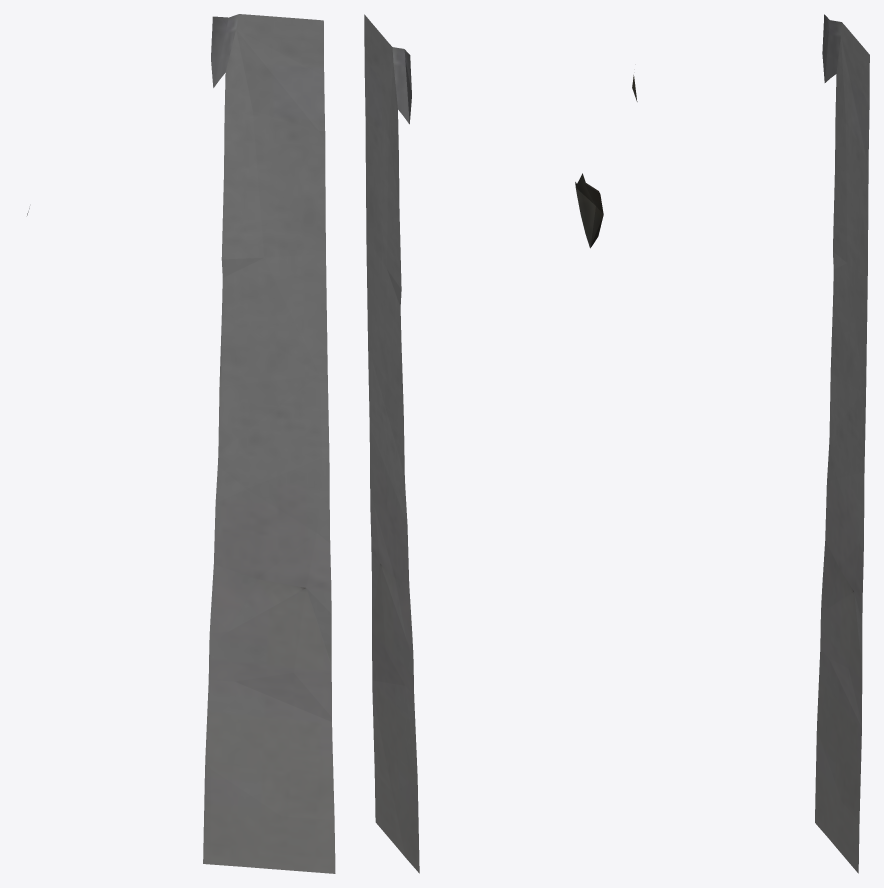
The picture shows the model from 3 angles, left to right: view 1: azimuth 30°, elevation 25°; view 2: azimuth 150°, elevation 25°; view 3: azimuth 330°, elevation 25°; orthographic projection. The views are drawn at different scales.
Size of the model in its own units: 0.5758 by 1.67 by 0.1559.
Materials: 1 (1 with a texture image).
